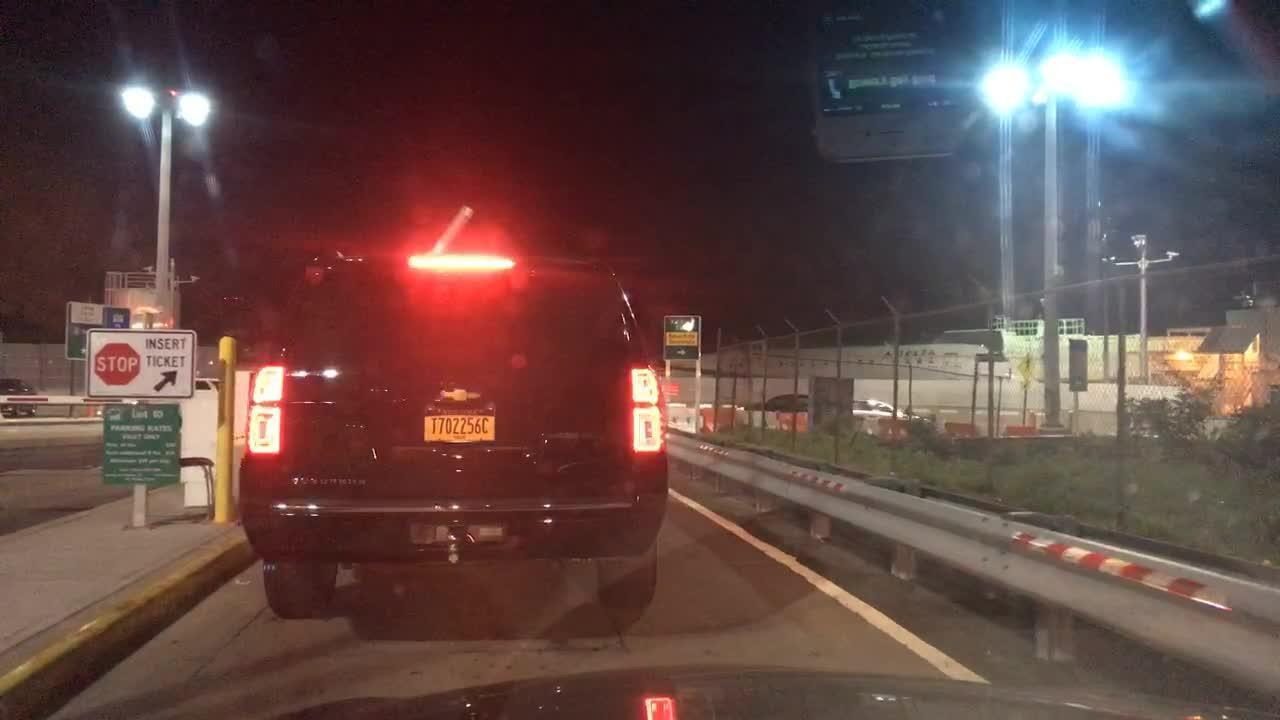chevrolet: (441, 384, 483, 404)
